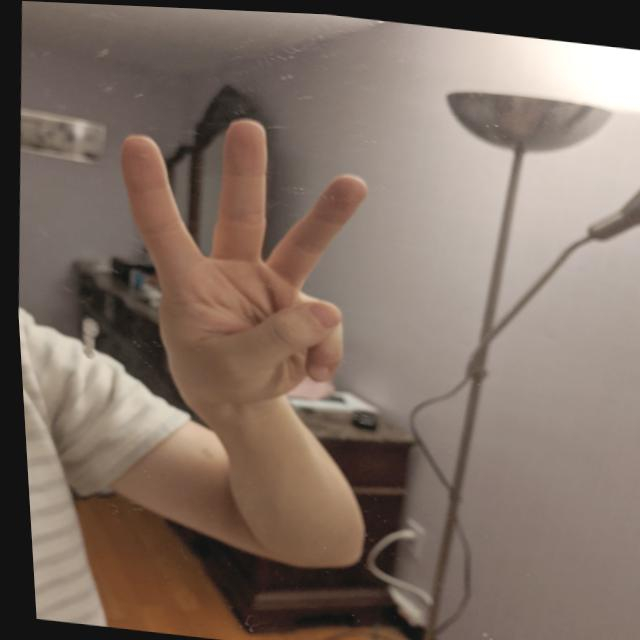W: (89, 97, 387, 431)
